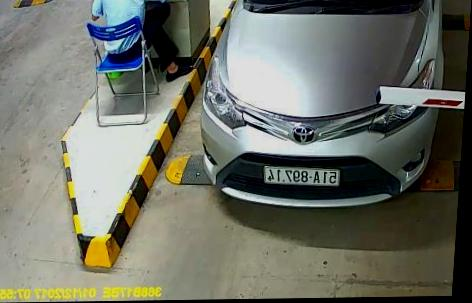License_Plate: (262, 163, 344, 188)
